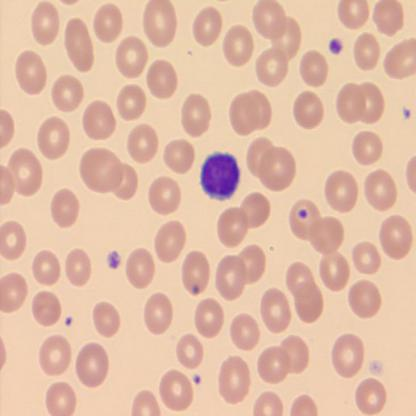Lymphocyte: (199, 149, 241, 202)
